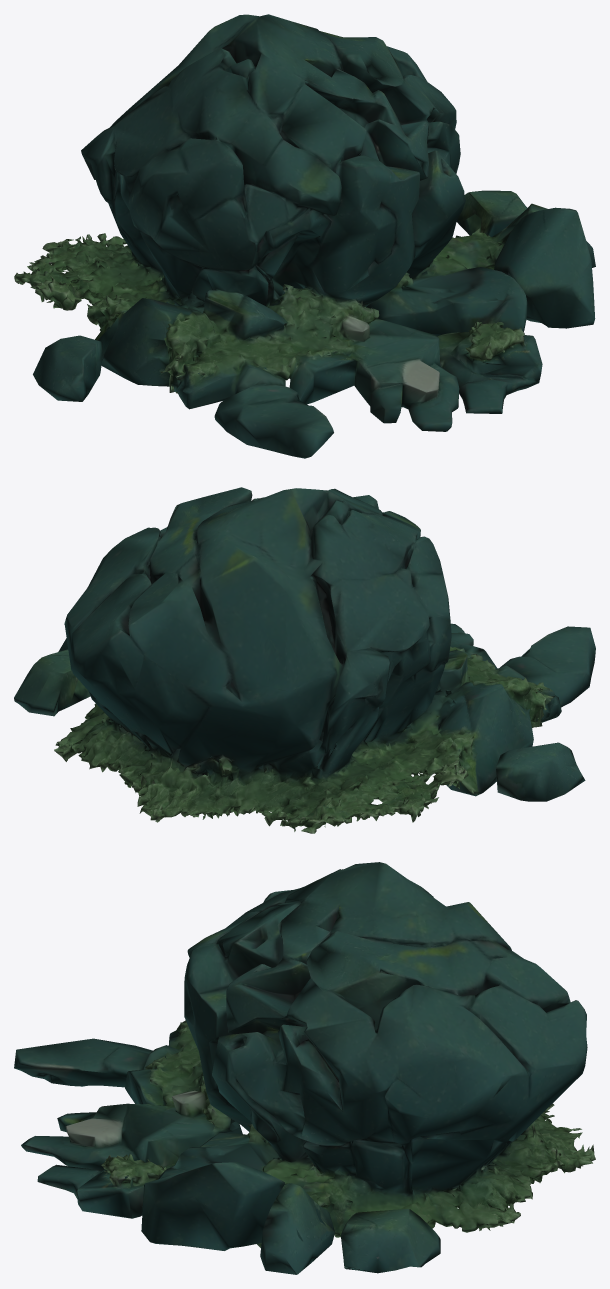
The model's file is MoQuangSat_PhongChau.fbx.
The picture shows the model from 3 angles, top to bottom: view 1: azimuth 30°, elevation 25°; view 2: azimuth 150°, elevation 25°; view 3: azimuth 270°, elevation 25°; orthographic projection. The views are drawn at different scales.
Parts seen in each view (by area): view 1: Mesh_0; view 2: Mesh_0; view 3: Mesh_0.
Part boxes in pixels (x1=…): Mesh_0: x1=14, y1=14, x2=595, y2=458; Mesh_0: x1=14, y1=487, x2=595, y2=833; Mesh_0: x1=14, y1=862, x2=595, y2=1274.
Size of the model in its own units: 190 by 101 by 178.
Materials: 1 (1 with a texture image).
